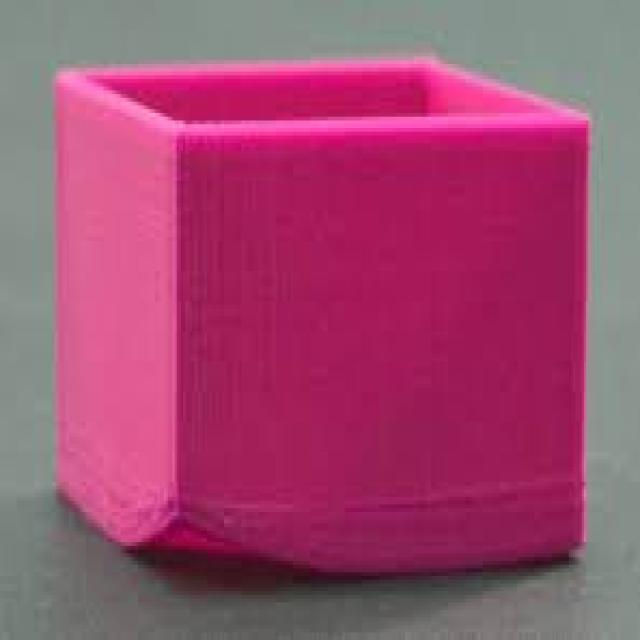Warping: (114, 502, 357, 580), (500, 528, 586, 570)
